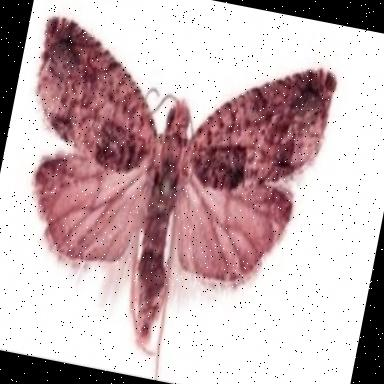abw: (0, 0, 341, 384)
